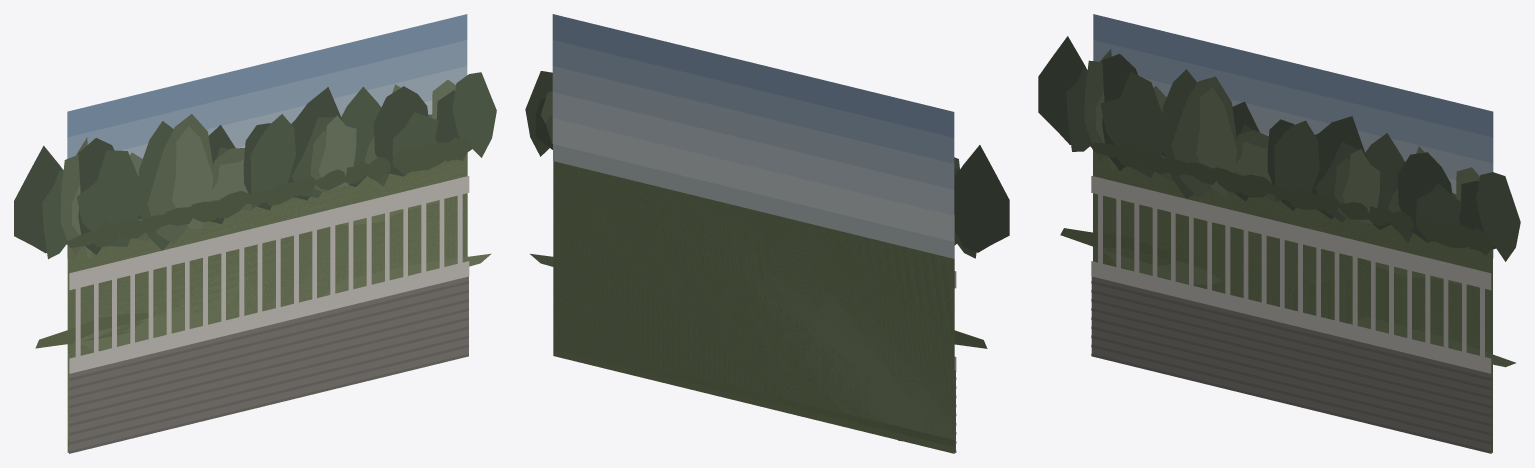
Rendered from view_n3.glb.
3 views of the same model, side by side, from view 1: azimuth 30°, elevation 25°; view 2: azimuth 150°, elevation 25°; view 3: azimuth 330°, elevation 25° (orthographic).
Parts seen in each view (by area): view 1: root; view 2: root; view 3: root.
Part boxes in pixels (x1,y1,x2,y2): root: [14, 14, 496, 453]; root: [525, 14, 1009, 453]; root: [1038, 14, 1520, 453].
Size of the model in its own units: 3.57 by 2.41 by 0.025.
